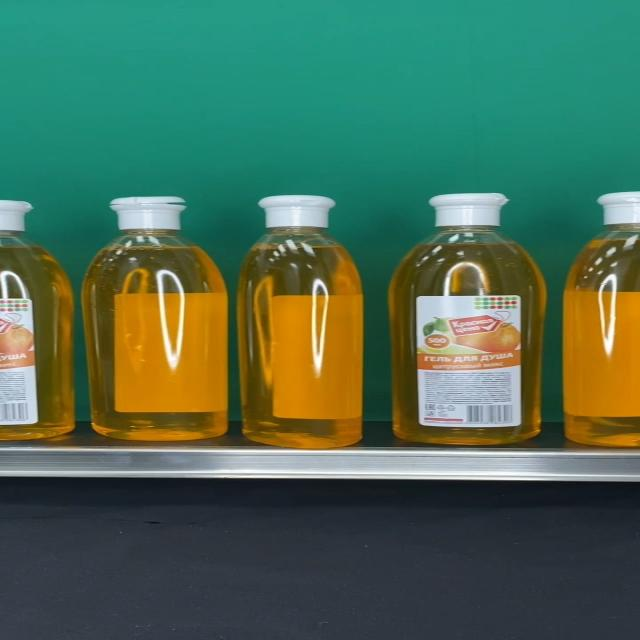Bottle: (390, 193, 547, 445), (82, 196, 227, 441), (238, 196, 363, 448)
Cap: (426, 193, 508, 226), (108, 196, 185, 230), (258, 196, 336, 228)
